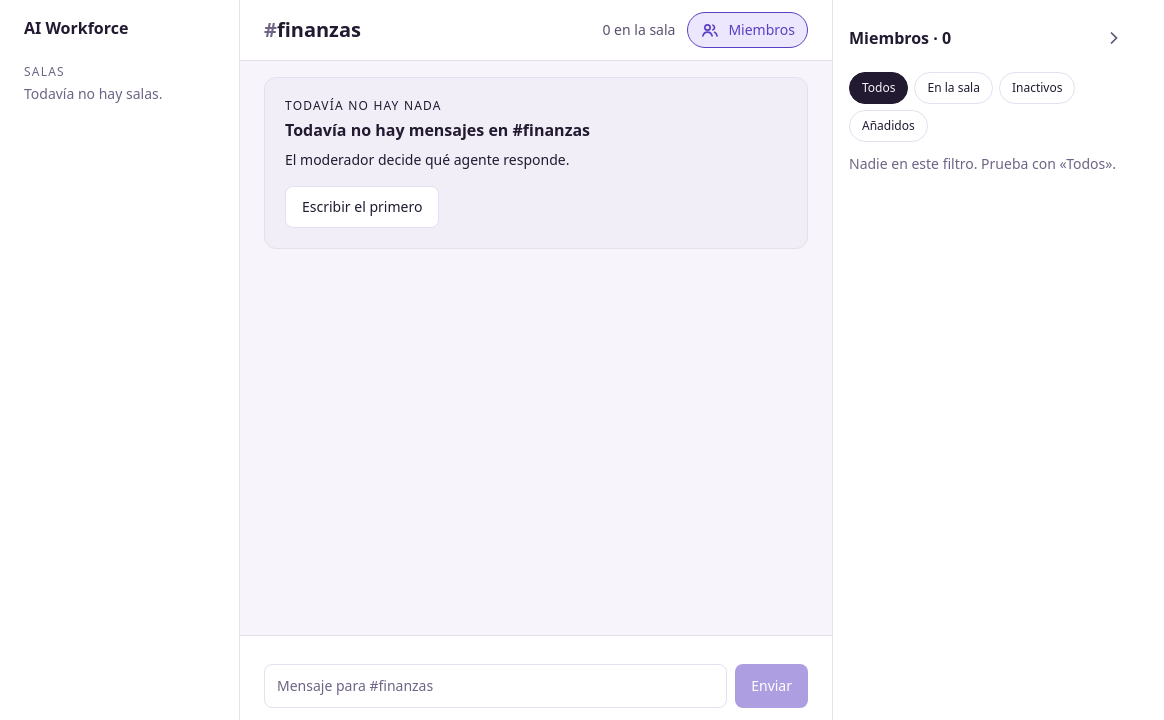
Test: VistaDeSalaV1 › un envío que falla sin cambiar de sala sí muestra su error
Type "Hola" into the field labelled "Mensaje para #finanzas" at (496, 686), box [264,664,727,708]
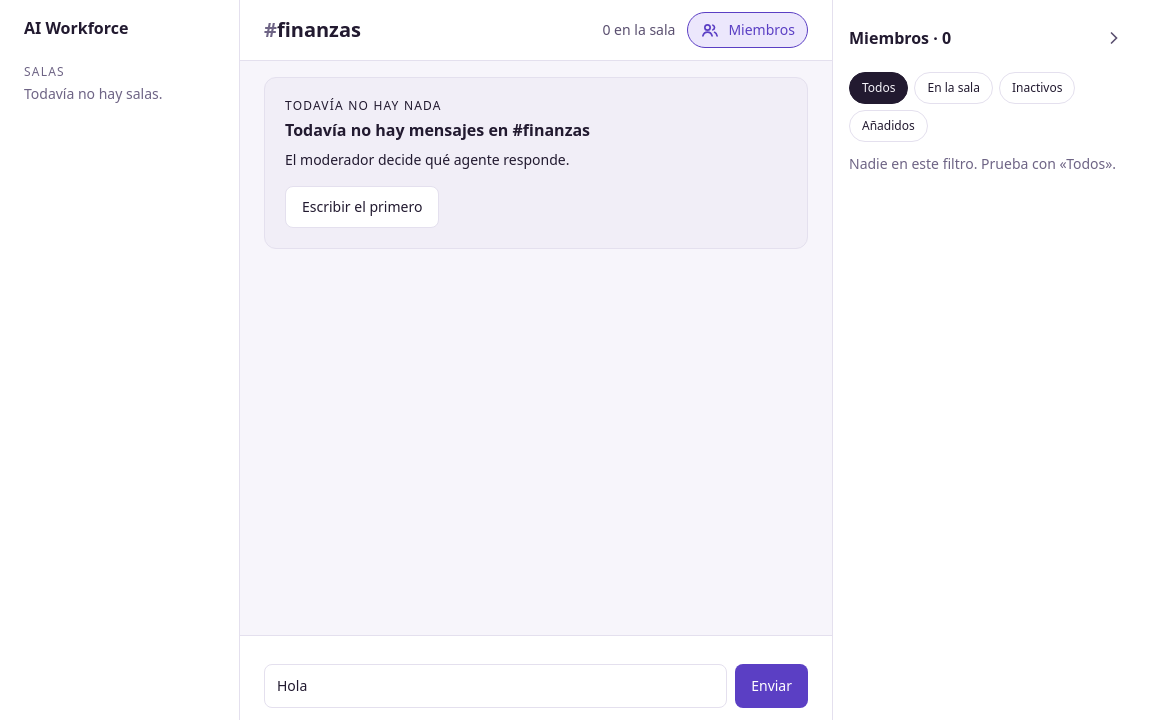
Submit the form named "Mensaje para #finanzas", box [264,664,808,708]
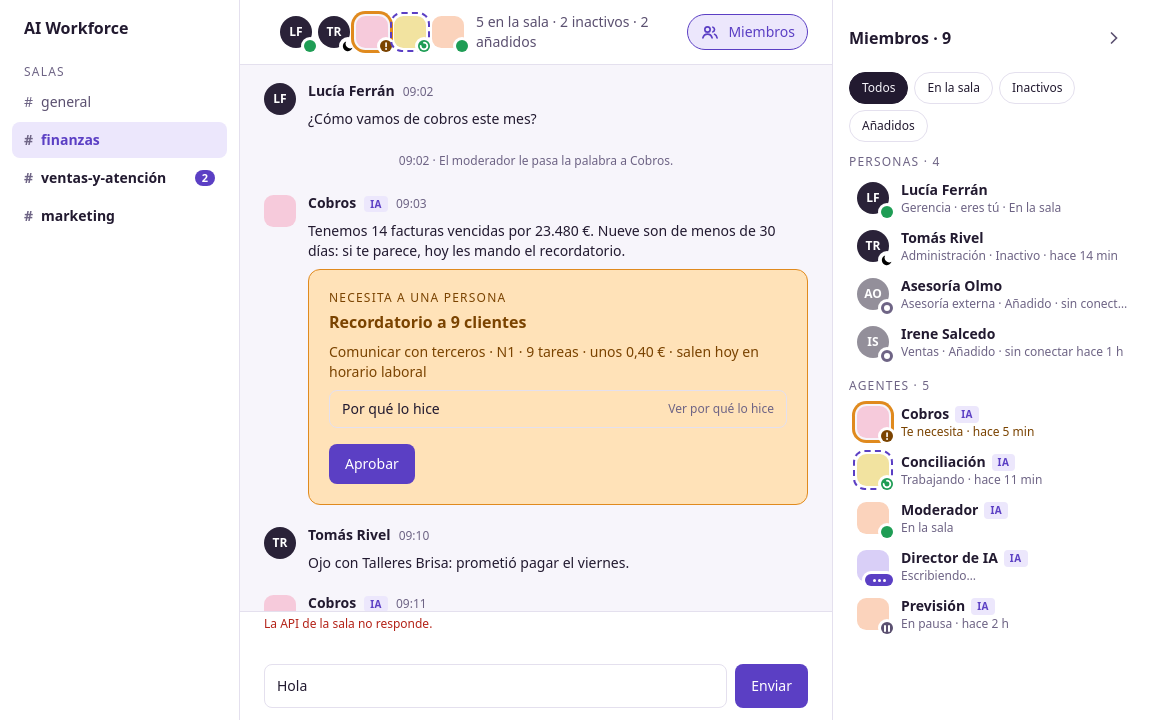
Now the text "La API de la sala no responde." is shown, box [264,615,432,632]
